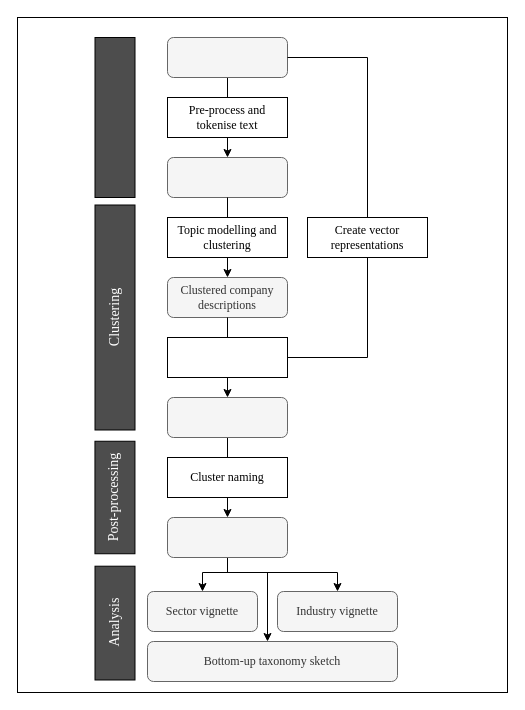
This 525x710 diagram has some shape labels left out. The shapes that lost their labels are listed below. From the top down, each one's box as (x1, y1, x2, y2) in pixels, then its label:
(166, 36, 288, 78): Company descriptions
(94, 36, 135, 198): Pre-processing
(166, 156, 288, 198): Tokenised company descriptions
(166, 336, 288, 378): Iterative reassignment into text clusters
(166, 396, 288, 438): Reassigned company descriptions
(166, 516, 288, 558): Named text sectors
